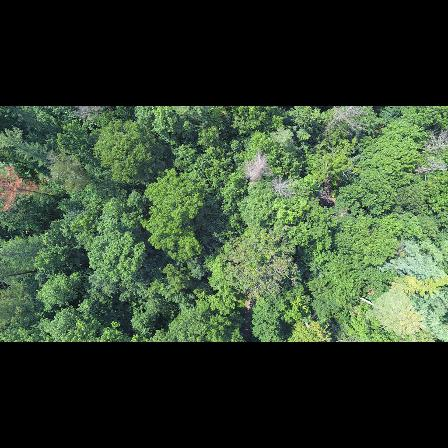Dead: (321, 106, 372, 136), (240, 150, 274, 182), (416, 128, 448, 156), (409, 157, 448, 177), (272, 171, 296, 198)
